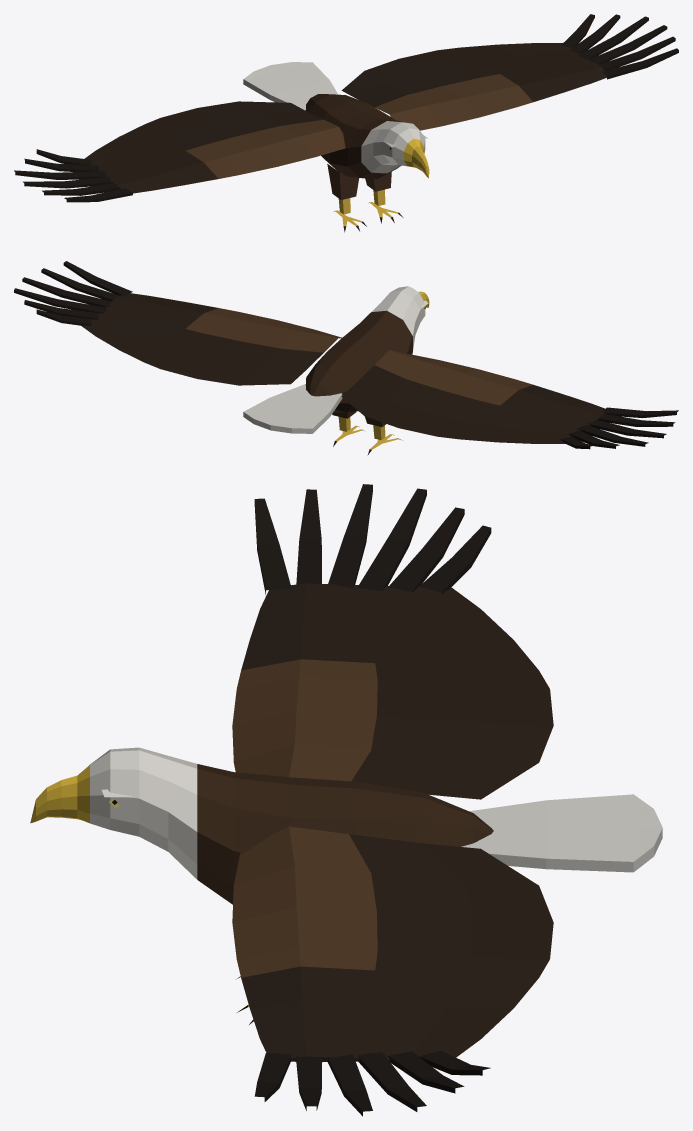
The model's file is eagle_mid.glb.
3 renders of one model, top to bottom at view 1: azimuth 30°, elevation 25°; view 2: azimuth 150°, elevation 25°; view 3: azimuth 270°, elevation 25°, orthographic. The views are drawn at different scales.
Parts seen in each view (by area): view 1: Eagle; view 2: Eagle; view 3: Eagle.
Boxes of the visible parts, <box> form: Eagle: <box>14,14,678,232</box>; Eagle: <box>14,261,678,455</box>; Eagle: <box>30,484,662,1116</box>.
Bounding box in the file's own units: 2.04 × 0.374 × 0.87.
